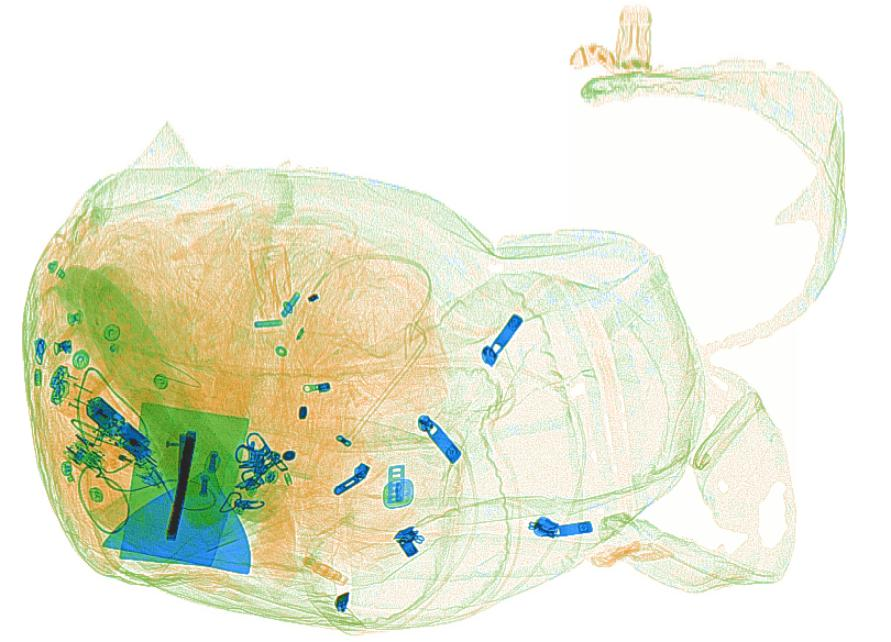battery: (115, 420, 156, 465)
lighter: (68, 423, 165, 487)
